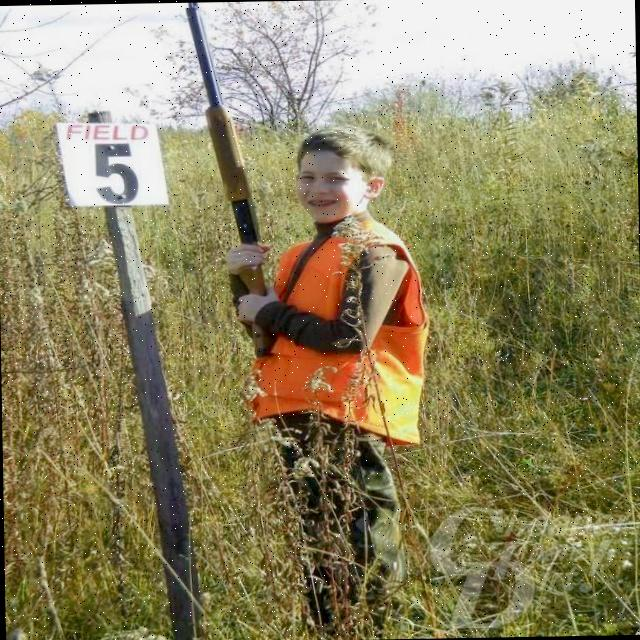vest: (269, 224, 421, 439)
